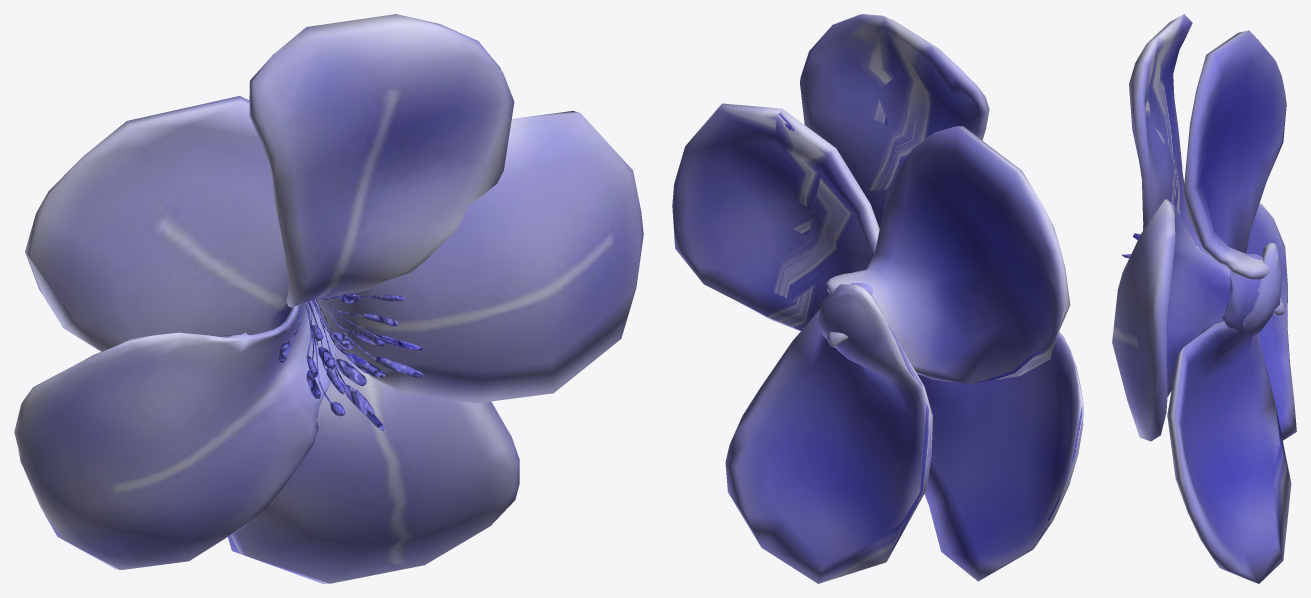
3 renders of one model, left to right at view 1: azimuth 30°, elevation 25°; view 2: azimuth 150°, elevation 25°; view 3: azimuth 270°, elevation 25°, orthographic. The views are drawn at different scales.
Parts seen in each view (by area): view 1: jasmine.001; view 2: jasmine.001; view 3: jasmine.001.
Boxes of the visible parts, <box> form: jasmine.001: <box>14,14,643,583</box>; jasmine.001: <box>672,14,1083,583</box>; jasmine.001: <box>1112,14,1296,583</box>.
Bounding box in the file's own units: 1.11 × 1.19 × 0.3822.
1 material, 1 textured.
